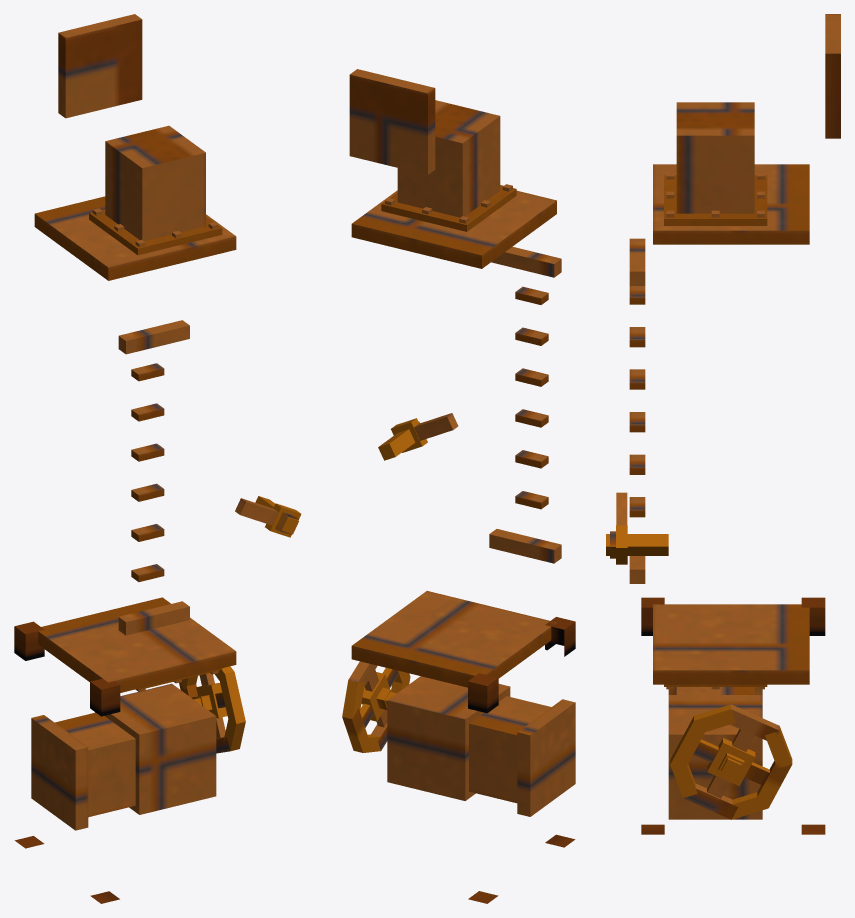
File: fluidtank.obj
3 renders of one model, left to right at view 1: azimuth 30°, elevation 25°; view 2: azimuth 150°, elevation 25°; view 3: azimuth 270°, elevation 25°, orthographic. The views are drawn at different scales.
Size of the model in its own units: 1.01 by 3.69 by 0.9375.
